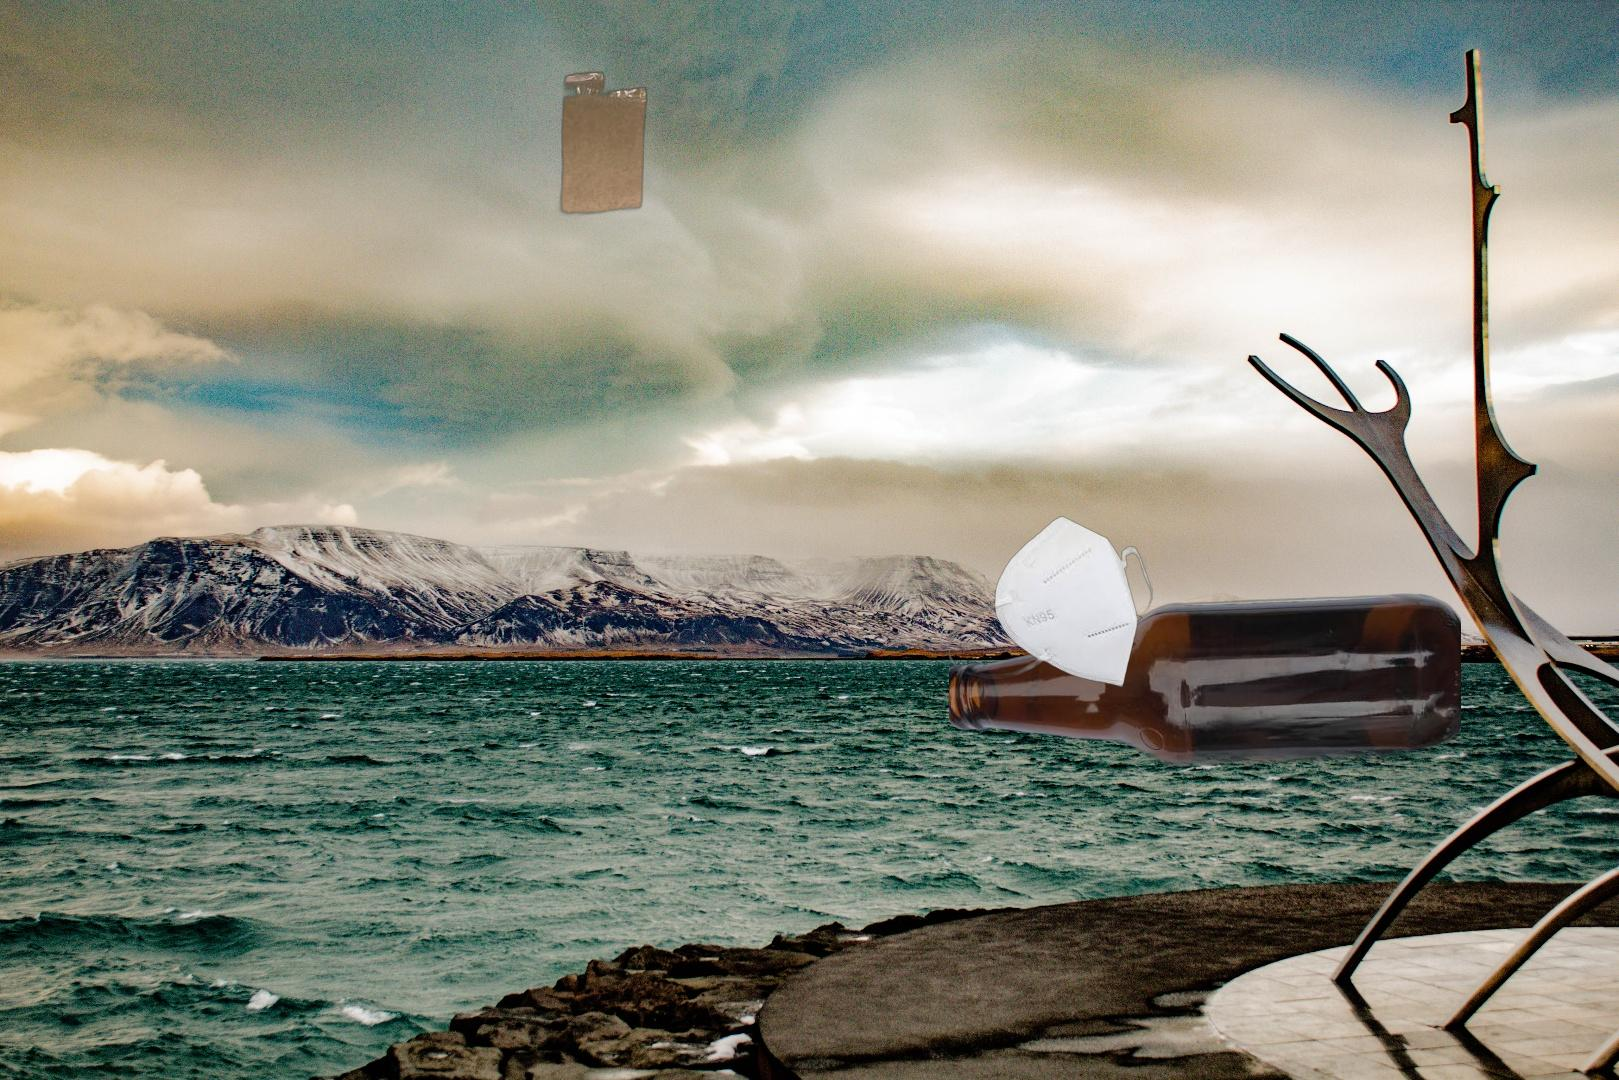glass: (949, 591, 1461, 770)
trash: (948, 513, 1152, 689)
trashbox-cardboard: (555, 67, 797, 219)
